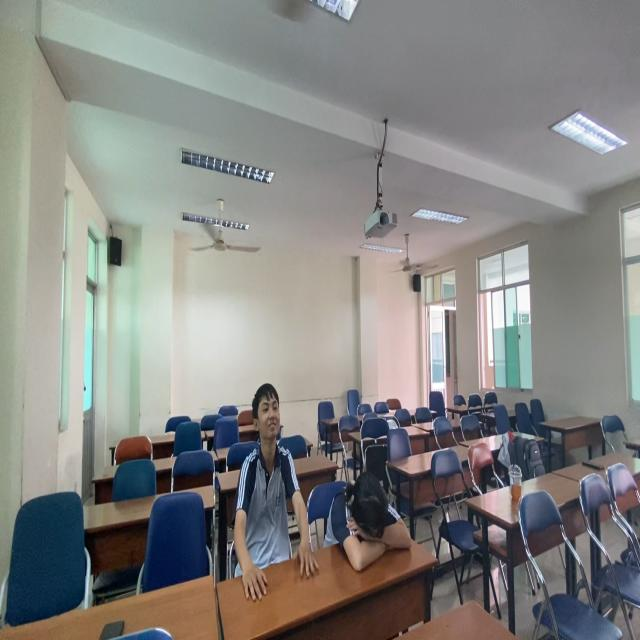sleep: (322, 468, 417, 570)
